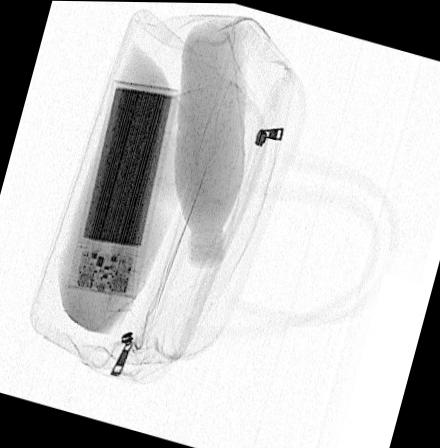Powerbank: (66, 76, 180, 300)
